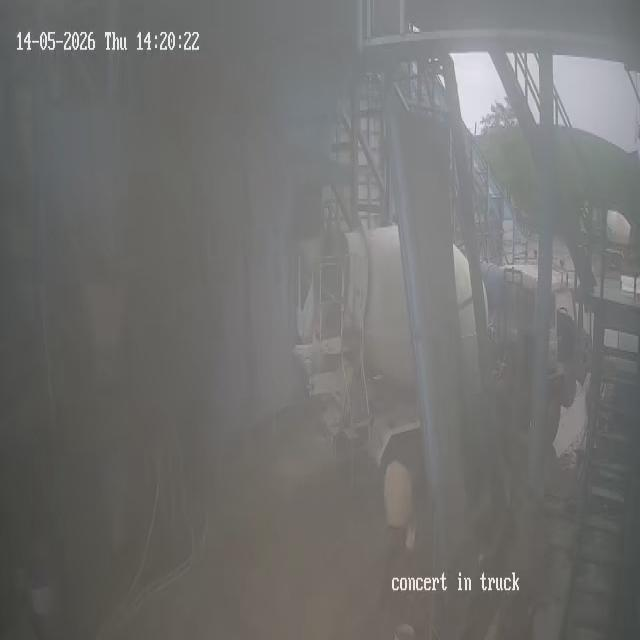cement_mixer_truck: (293, 207, 584, 542)
